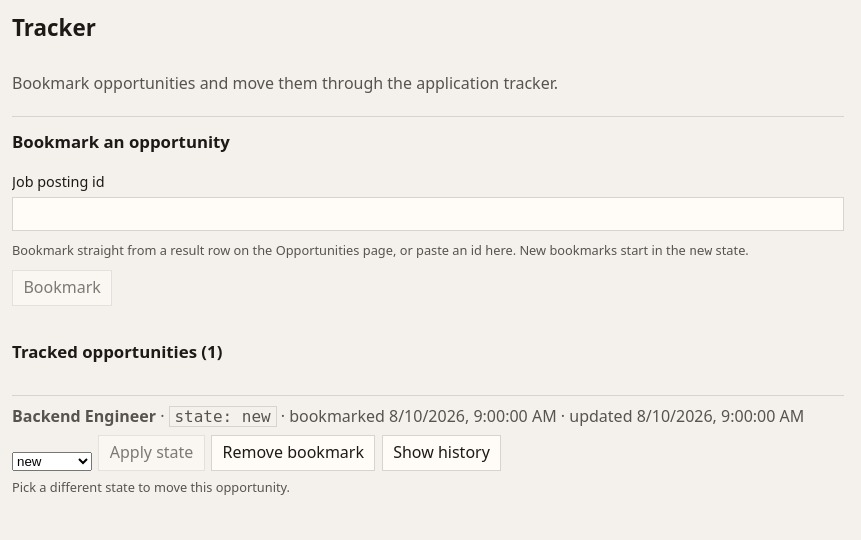
TrackerPage › renders an initial bookmark transition as the start of the timeline
This screenshot has width=861, height=540.
What coordinates should you click on to do the following:
click the button "Show history"
I would click on:
 (442, 453)
Its box is [382, 435, 501, 471].
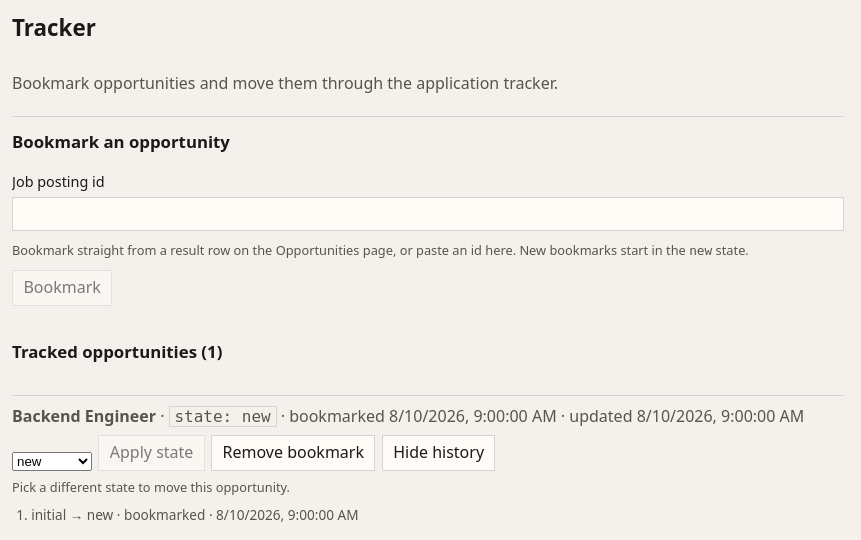
Check: the list item "initial → new · bookmarked · 8/10/2026, 9:00:00 AM" is shown, box [31, 505, 358, 524]
